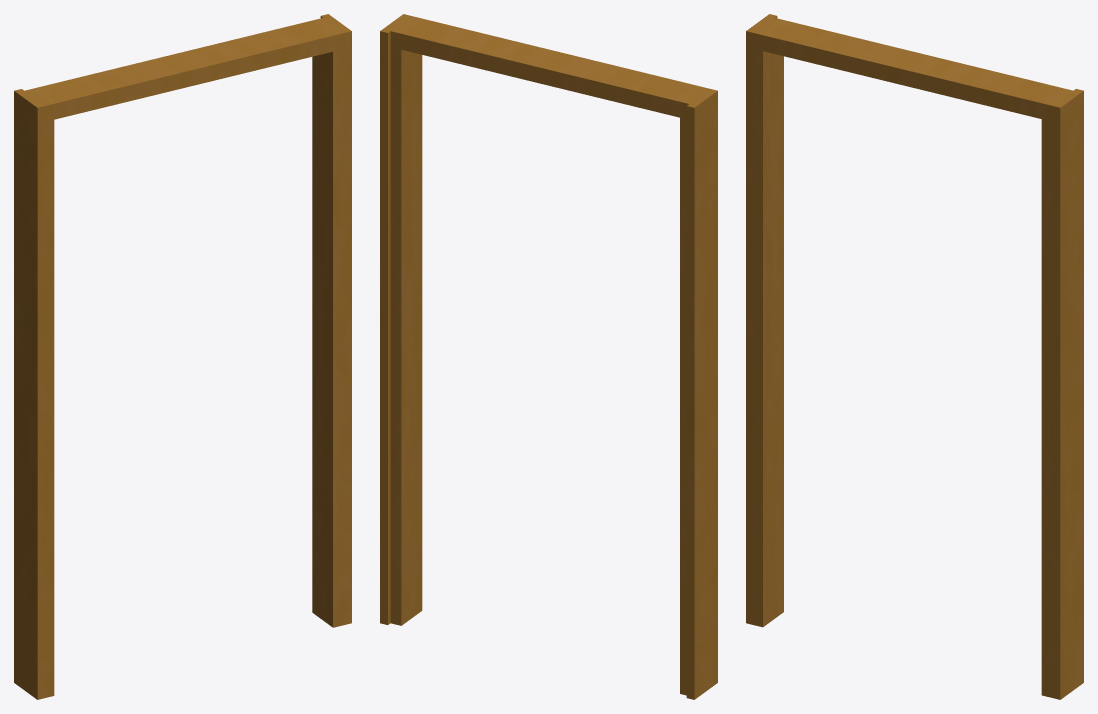
Rendered from type_1.glb.
3 views of the same model, side by side, from view 1: azimuth 30°, elevation 25°; view 2: azimuth 150°, elevation 25°; view 3: azimuth 330°, elevation 25° (orthographic).
Parts seen in each view (by area): view 1: pCube29; view 2: pCube29; view 3: pCube29.
Part boxes in pixels (x1,y1,x2,y2): pCube29: (14,14,351,699); pCube29: (380,14,717,699); pCube29: (746,14,1083,699).
Bounding box in the file's own units: 2.12 × 3.81 × 0.2736.
Materials: 1 (1 with a texture image).
